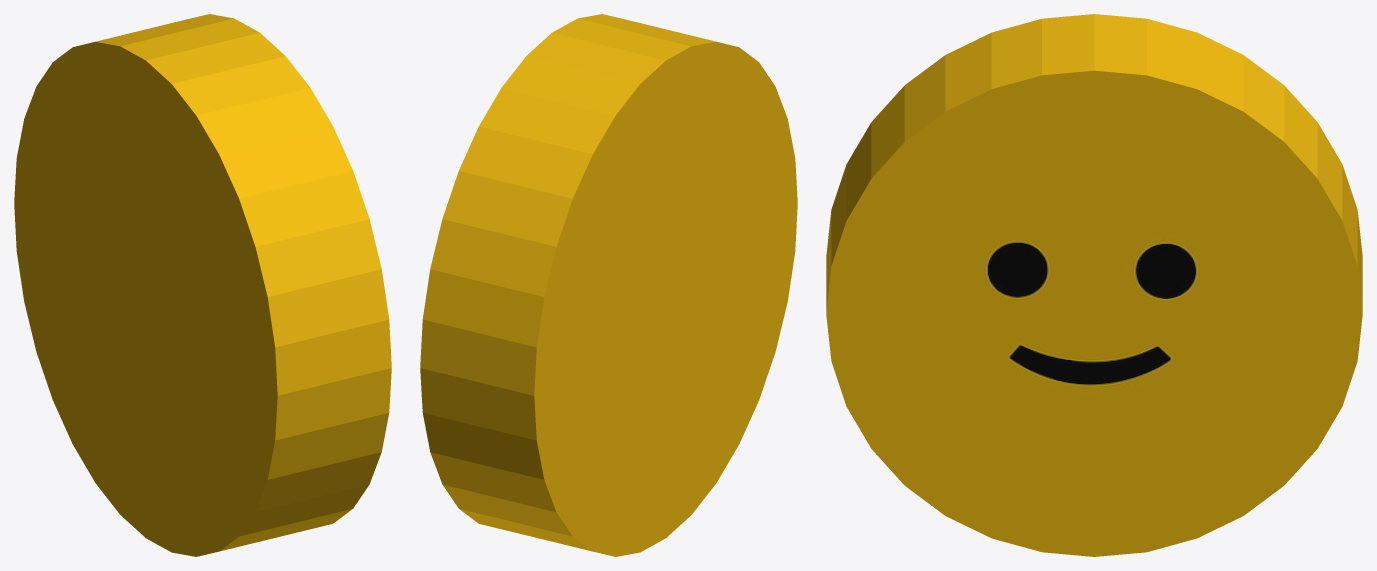
File: smiley.gltf
3 views of the same model, side by side, from view 1: azimuth 30°, elevation 25°; view 2: azimuth 150°, elevation 25°; view 3: azimuth 270°, elevation 25° (orthographic).
Visible parts, largest first — view 1: Cylinder; view 2: Cylinder; view 3: Cylinder.
Part boxes in pixels (x1,y1,x2,y2): Cylinder: (14, 14, 391, 556); Cylinder: (420, 14, 797, 556); Cylinder: (826, 14, 1362, 556).
Size of the model in its own units: 0.5 by 2 by 2.
Materials: 1 (1 with a texture image).
